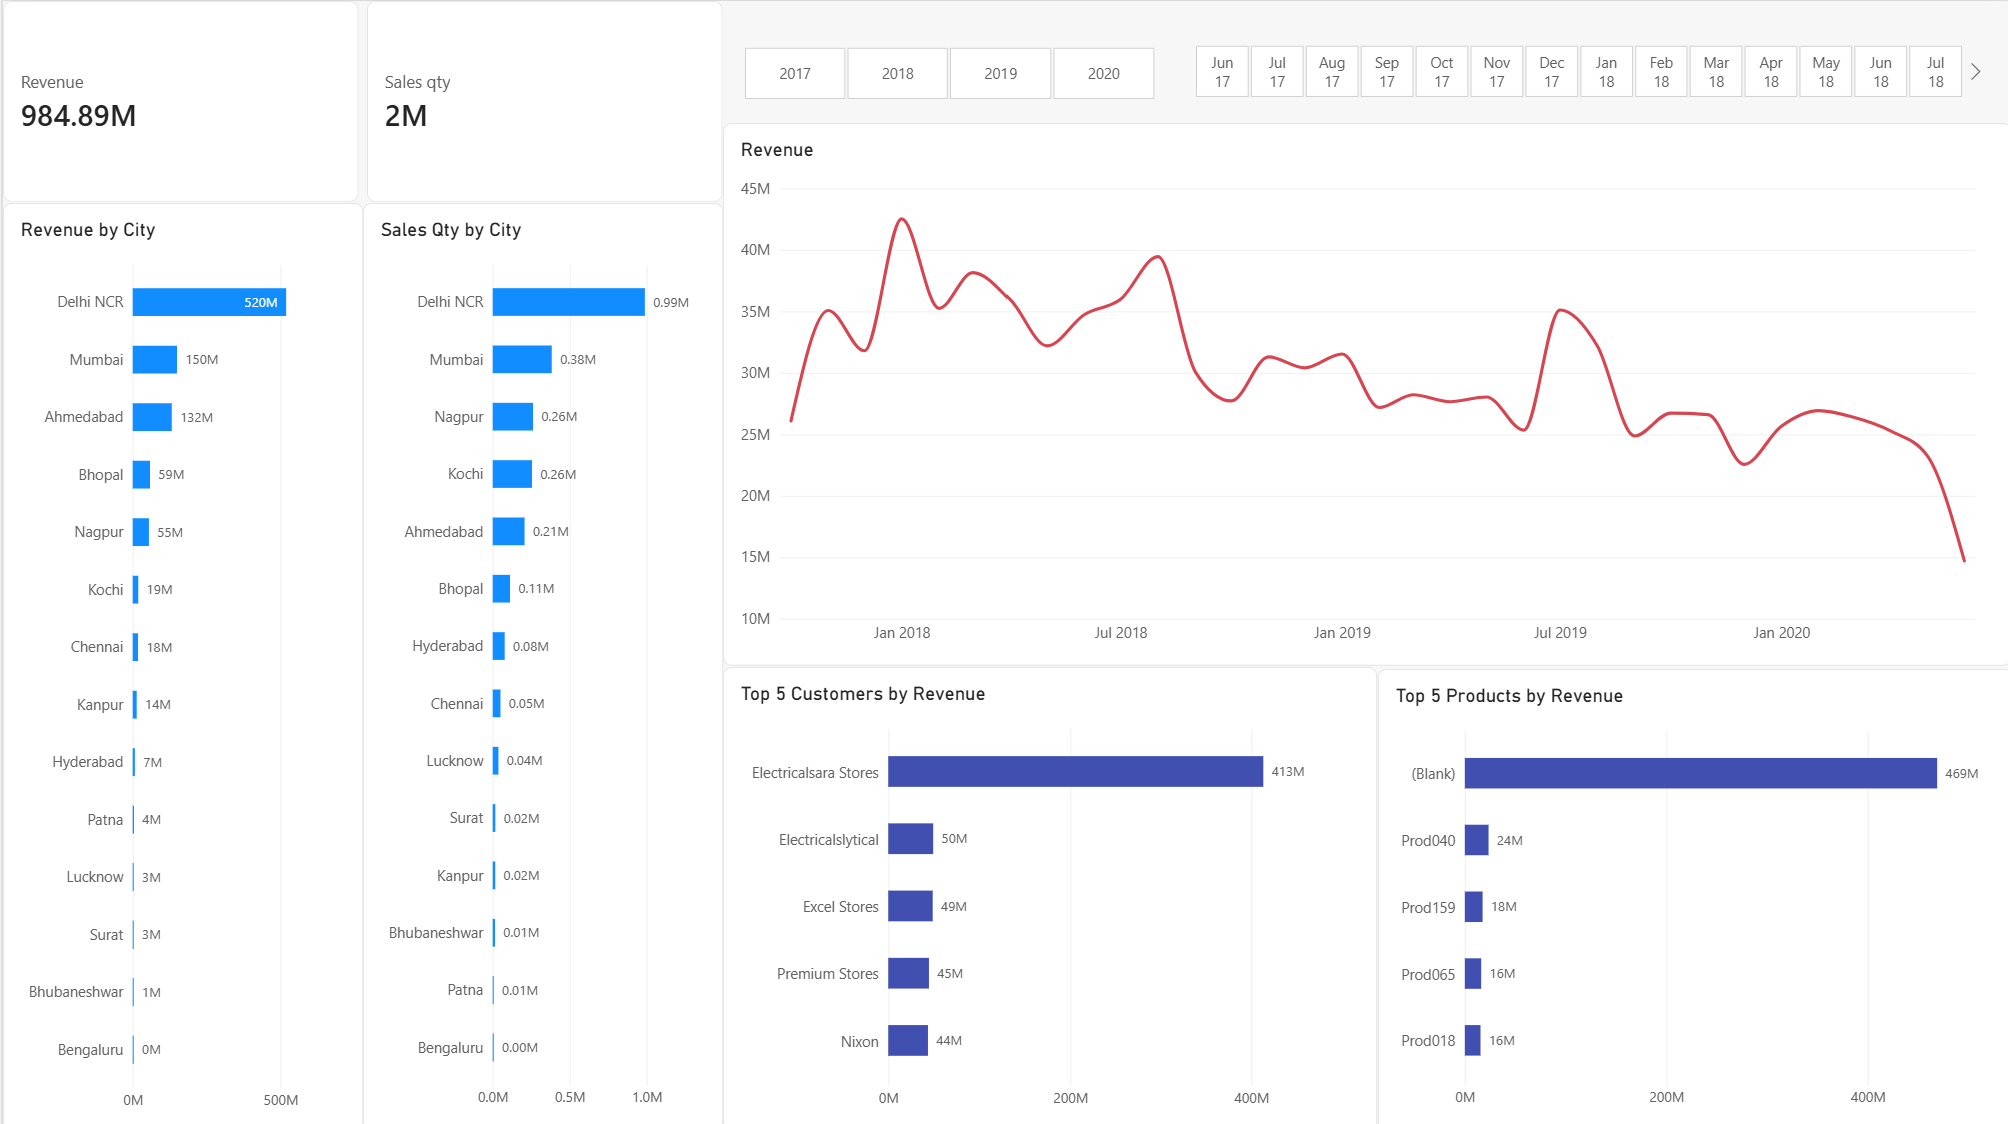

What the dashboard file says about the page in this screenshot:
{"tool":"powerbi","page":{"name":"Page 1","canvas":[1920,1080],"ordinal":0},"visuals":[{"type":"cardVisual","fields":{"Data":["BaseMeasure.Revenue","BaseMeasure.Sales qty"]},"box":[0,0,689,192.9],"z":0},{"type":"barChart","title":"Revenue by City","fields":{"Y":["BaseMeasure.Revenue"],"Category":["sales markets.markets_name"]},"box":[0,192.9,344.5,888.8],"z":1000},{"type":"barChart","title":"Sales Qty by City","fields":{"Y":["Sum(sales transactions.sales_qty)"],"Category":["sales markets.markets_name"]},"box":[344.5,192.9,344.5,886.5],"z":2000},{"type":"slicer","fields":{"Values":["sales date.year"]},"box":[688.4,28.7,430.3,66.9],"z":3000},{"type":"slicer","fields":{"Values":["sales date.cy_date"]},"box":[1118.7,26.8,772.6,66.9],"z":4000},{"type":"barChart","title":"Top 5 Customers by Revenue","fields":{"Category":["sales customers.custmer_name"],"Y":["BaseMeasure.Revenue"]},"box":[689,636.2,624.7,443.3],"z":5000},{"type":"barChart","title":"Top 5 Products by Revenue","fields":{"Category":["sales products.product_code"],"Y":["BaseMeasure.Revenue"]},"box":[1313.7,638.5,608.6,441],"z":6000},{"type":"lineChart","title":"Revenue","fields":{"Y":["BaseMeasure.Revenue"],"Category":["sales date.cy_date.Variation.Date Hierarchy.Year","sales date.cy_date.Variation.Date Hierarchy.Quarter","sales date.cy_date.Variation.Date Hierarchy.Month","sales date.cy_date.Variation.Date Hierarchy.Day"]},"box":[689,117.1,1231,519],"z":7000}]}

Visuals, with their boxes in screenshot pixels (x1, y1, x2, y2), scaled from the page's 1920x1080 canvas onto the 2008x1124 screenshot:
cardVisual - BaseMeasure.Revenue x BaseMeasure.Sales qty: 0 0 721 201
"Revenue by City" barChart: 0 201 360 1123
"Sales Qty by City" barChart: 360 201 721 1123
slicer - sales date.year: 720 30 1170 99
slicer - sales date.cy_date: 1170 28 1978 98
"Top 5 Customers by Revenue" barChart: 721 662 1374 1123
"Top 5 Products by Revenue" barChart: 1374 665 2007 1123
"Revenue" lineChart: 721 122 2007 662
